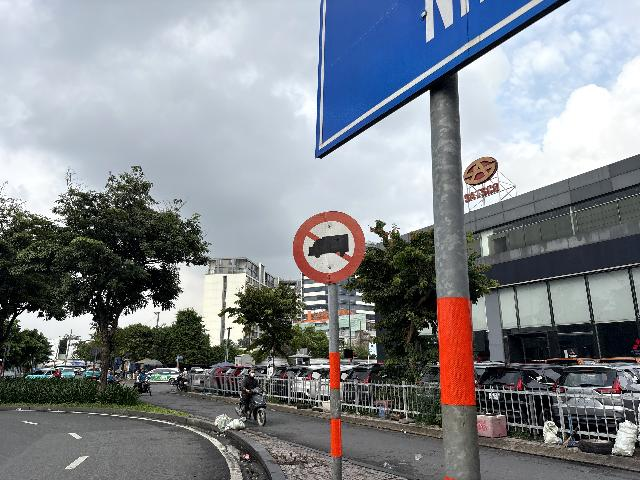cam-xe-tai: (292, 211, 366, 284)
